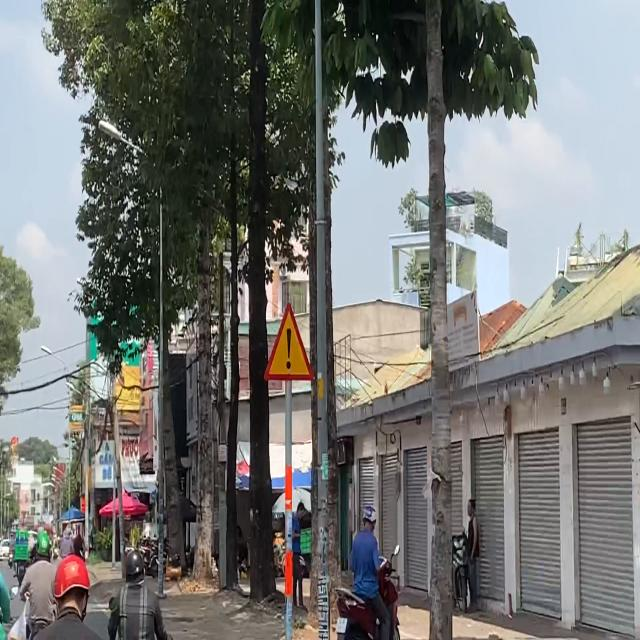Nguy hiem: (262, 301, 315, 382)
